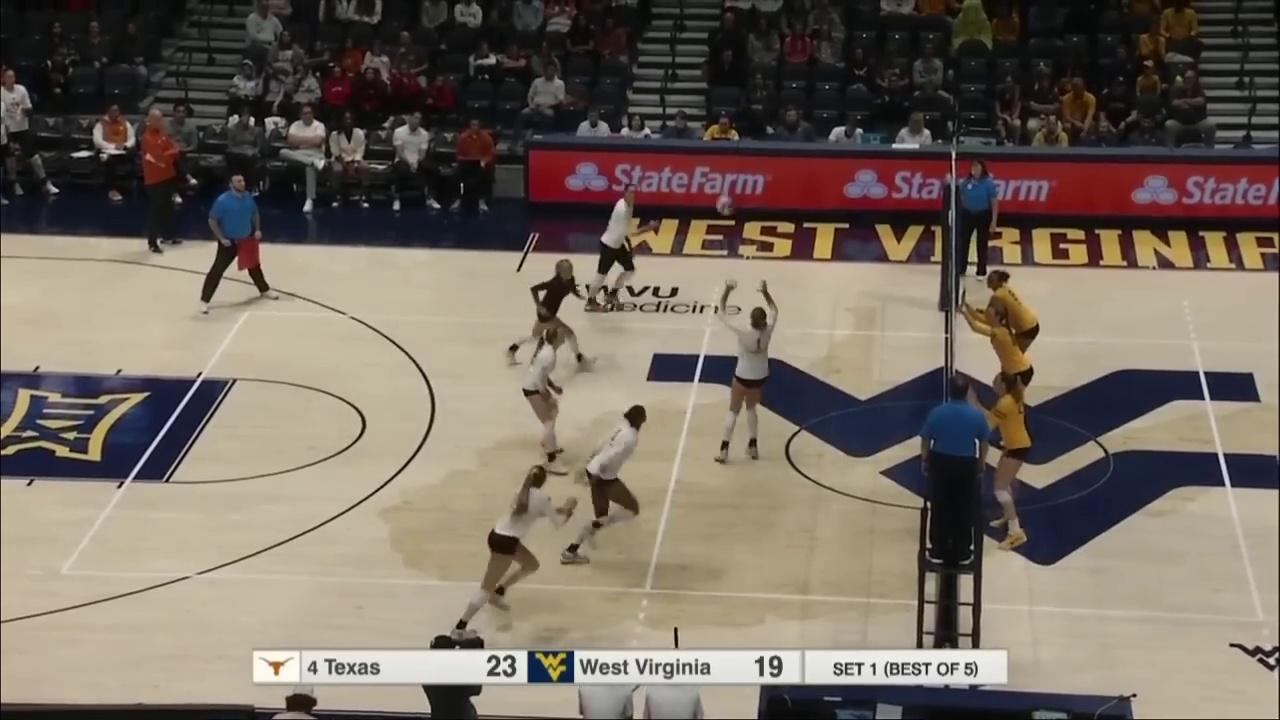player: (449, 457, 563, 643), (570, 408, 655, 569), (714, 282, 782, 465), (963, 297, 1034, 458), (506, 260, 600, 380), (977, 373, 1037, 546), (585, 177, 642, 313), (986, 269, 1039, 410), (519, 326, 570, 462)
refree: (922, 373, 987, 566), (197, 175, 281, 314), (959, 159, 998, 279)
